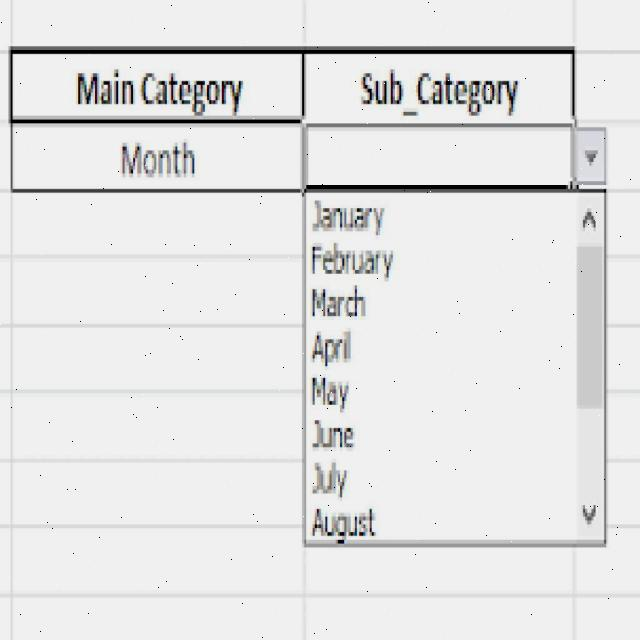dropdownMenu: (303, 124, 607, 548), (11, 114, 298, 194)
menuItem: (306, 241, 407, 280), (306, 196, 405, 234), (308, 501, 379, 542), (305, 283, 374, 322), (306, 326, 368, 366), (304, 371, 358, 414), (306, 418, 364, 453), (309, 458, 355, 497)
